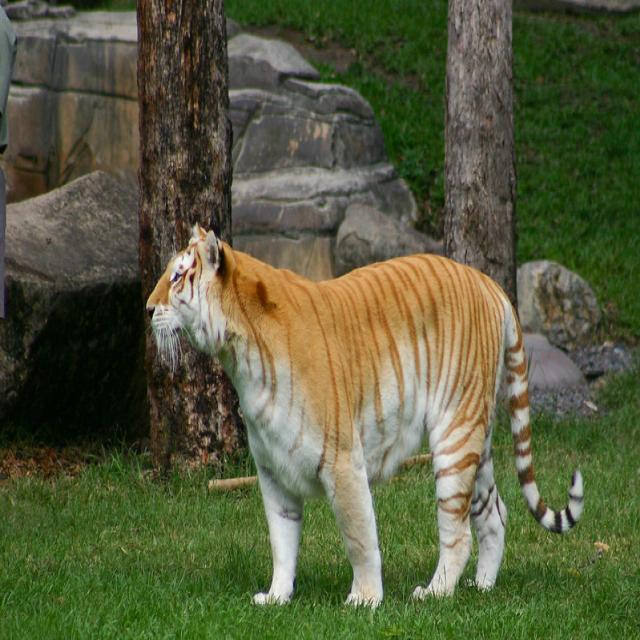Tiger: (144, 219, 586, 604)
